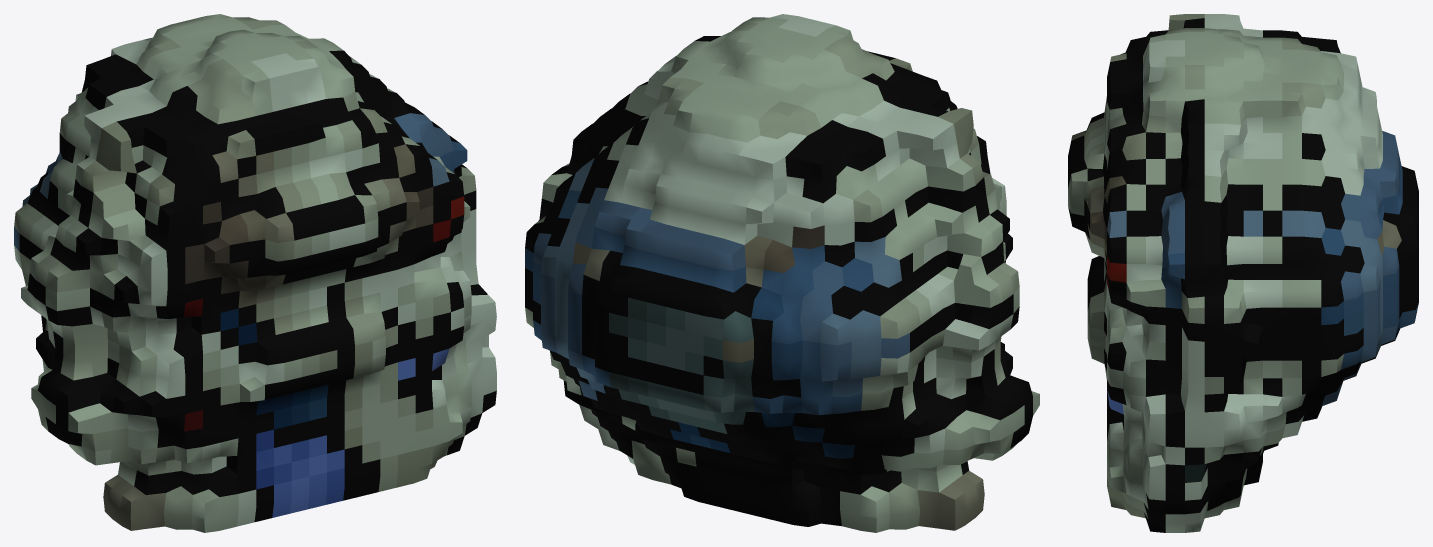
Rendered from Icon_734_02.obj.
The picture shows the model from 3 angles, left to right: view 1: azimuth 30°, elevation 25°; view 2: azimuth 150°, elevation 25°; view 3: azimuth 270°, elevation 25°; orthographic projection. The views are drawn at different scales.
Size of the model in its own units: 2.4 by 2.3 by 1.8.
